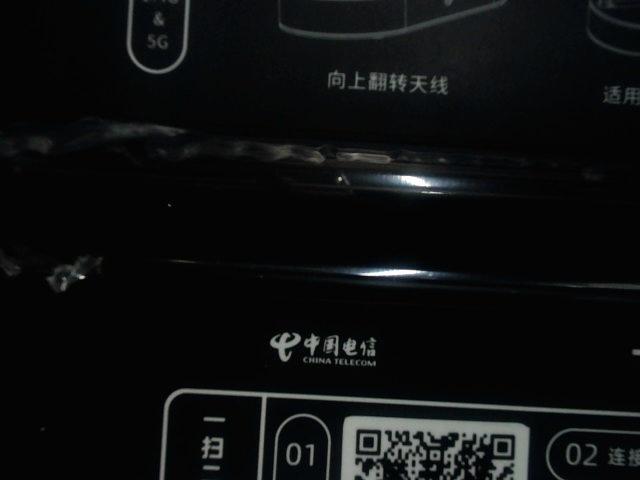AB_ChinaTelecom: (272, 318, 380, 367)
